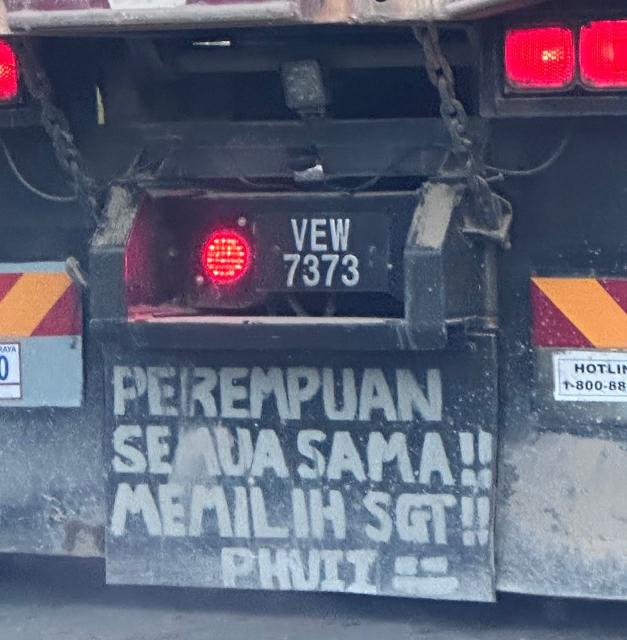License_Plate: (253, 212, 396, 294)
lorry: (1, 1, 627, 604)
